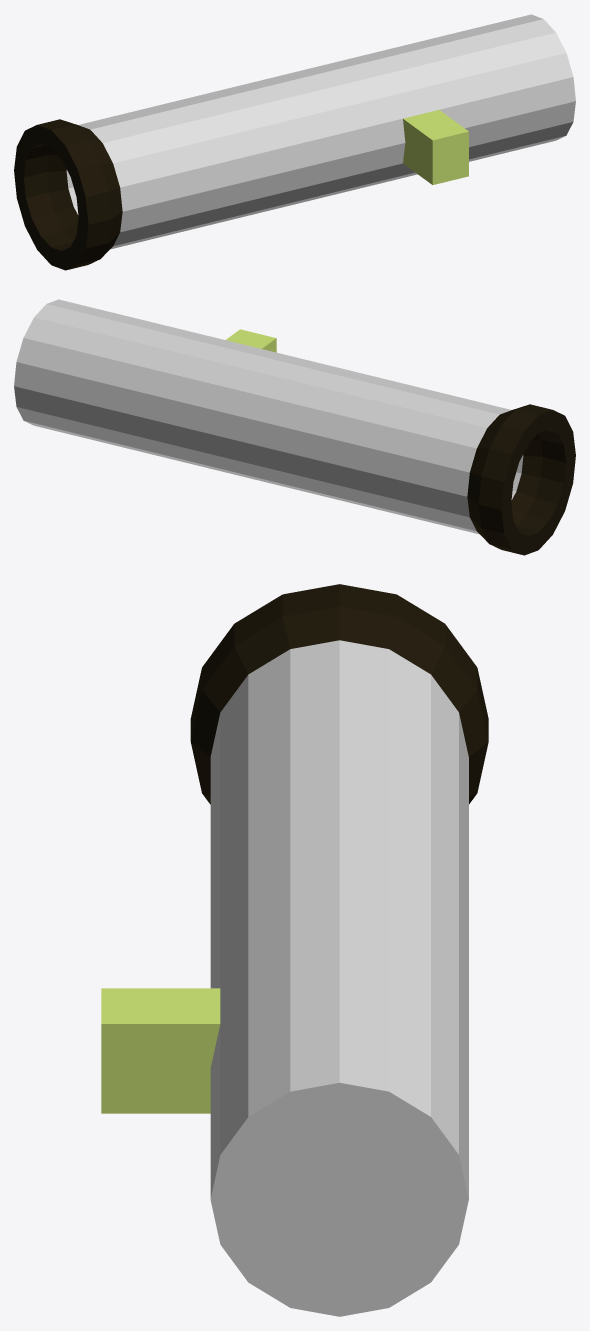
The model's file is RocketLauncher.fbx.
3 renders of one model, top to bottom at view 1: azimuth 30°, elevation 25°; view 2: azimuth 150°, elevation 25°; view 3: azimuth 270°, elevation 25°, orthographic. The views are drawn at different scales.
Visible parts, largest first — view 1: Cylinder; view 2: Cylinder; view 3: Cylinder.
Part boxes in pixels (bbox=[...]): Cylinder: bbox=[14, 14, 575, 270]; Cylinder: bbox=[14, 299, 575, 555]; Cylinder: bbox=[101, 584, 488, 1316].
Size of the model in its own units: 527 by 138 by 179.
